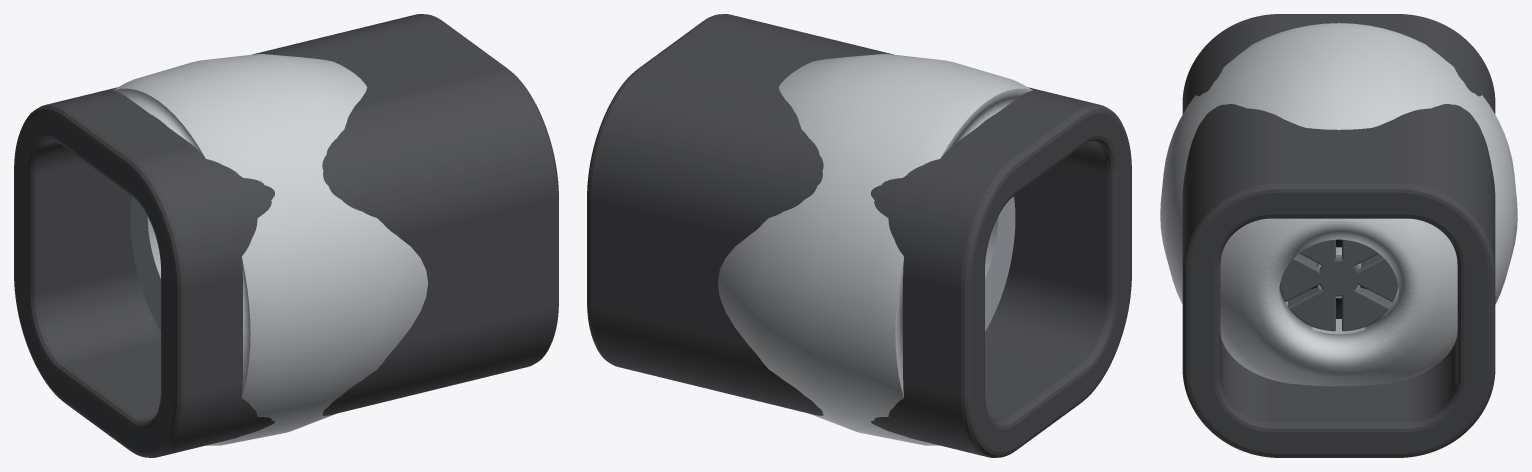
The model's file is asht40634.old.glb.
3 views of the same model, side by side, from view 1: azimuth 30°, elevation 25°; view 2: azimuth 150°, elevation 25°; view 3: azimuth 270°, elevation 25° (orthographic). The views are drawn at different scales.
Visible parts, largest first — view 1: arka-govde, on-govde, silindir; view 2: arka-govde, on-govde, silindir; view 3: arka-govde, on-govde, rotor__0.
Boxes of the visible parts, x1,y1,x2,y2 form: arka-govde: (14, 14, 558, 457); on-govde: (113, 54, 427, 445); silindir: (130, 196, 160, 331); arka-govde: (587, 14, 1131, 457); on-govde: (718, 54, 1032, 445); silindir: (985, 196, 1015, 331); arka-govde: (1182, 14, 1495, 457); on-govde: (1160, 23, 1517, 386); rotor__0: (1279, 239, 1398, 331).
Bounding box in the file's own units: 5078885 × 4390778 × 4390778.
5 materials, 5 textured.
